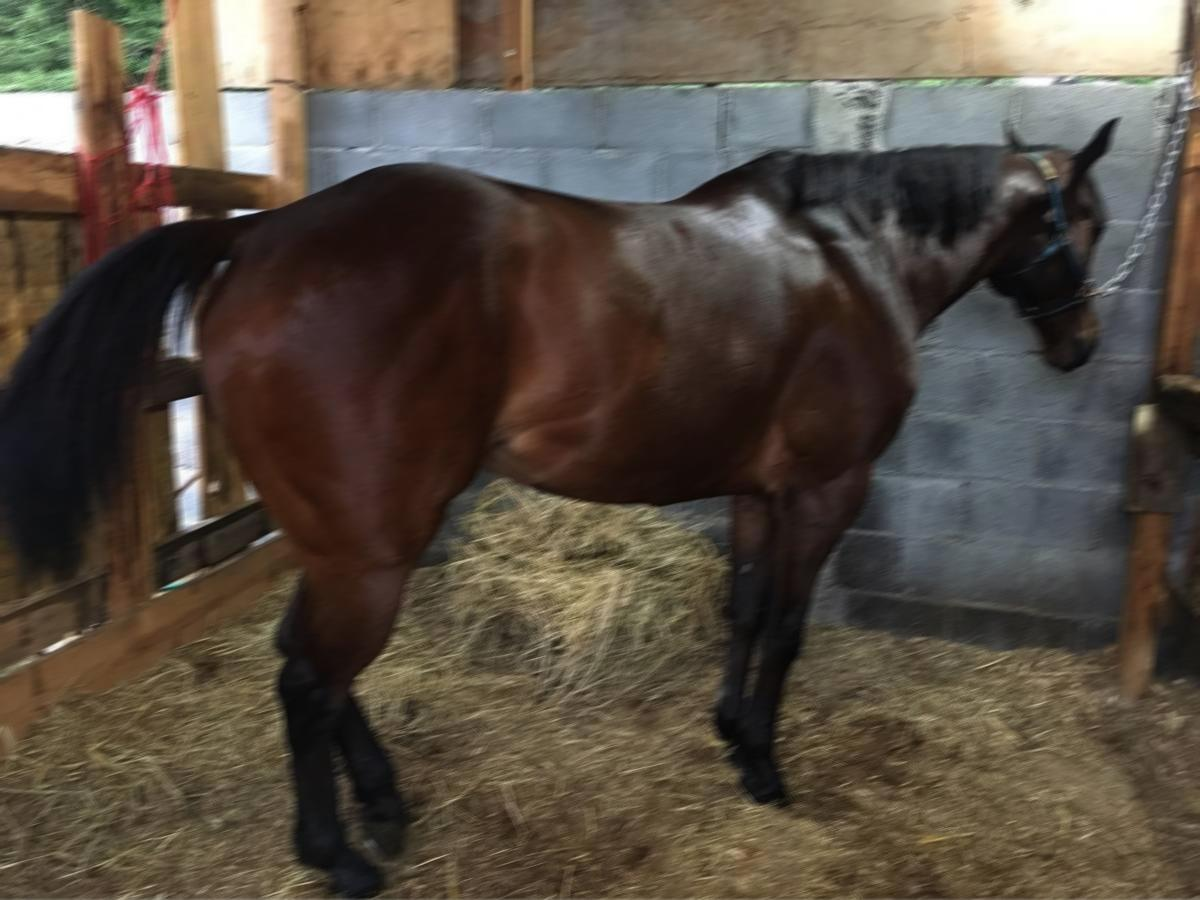horse: (0, 110, 1134, 900)
